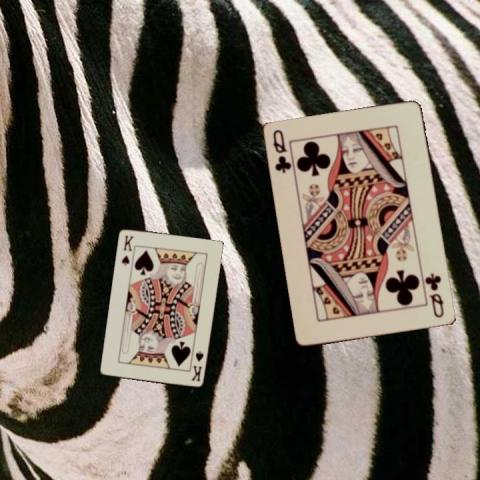Ks: (189, 348, 205, 383), (119, 233, 135, 267)
Qc: (423, 270, 446, 319), (270, 126, 293, 174)
